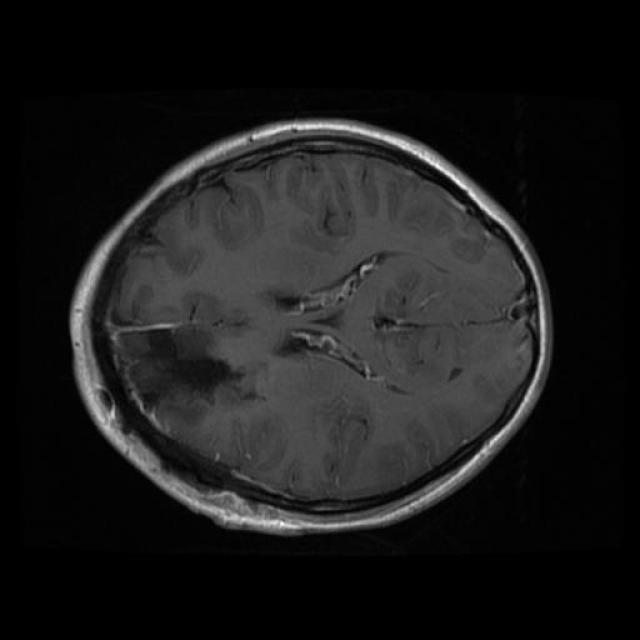Glioma: (130, 325, 256, 419)
